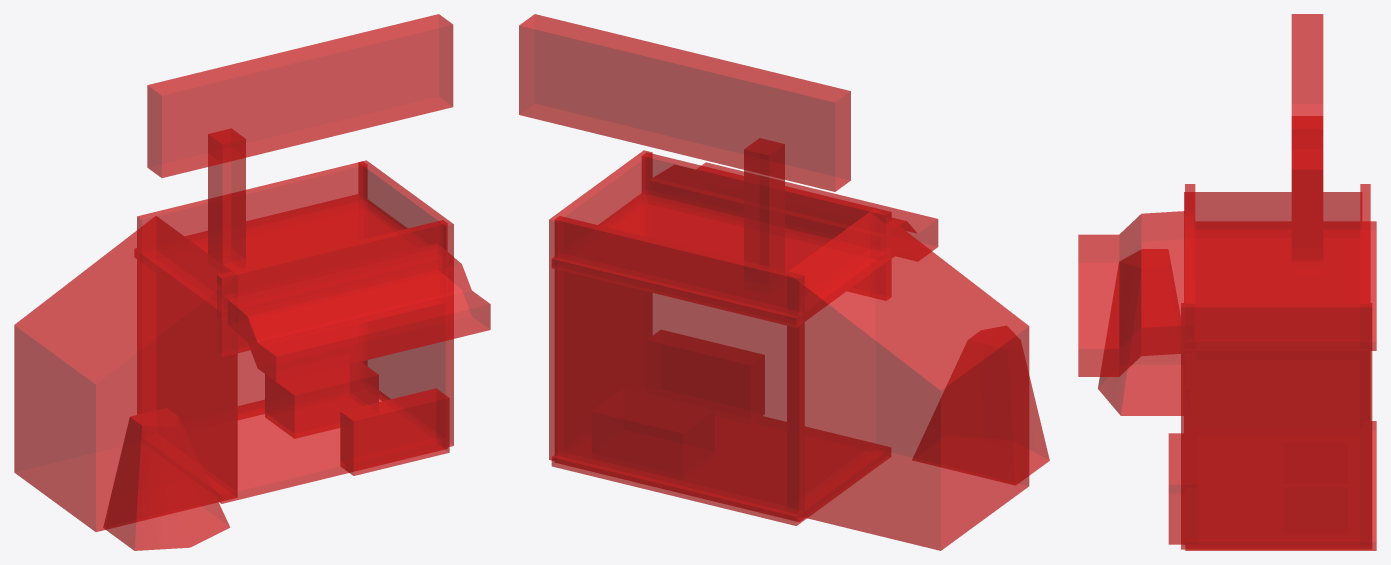
The model's file is SM_Bld_Shop_01_Collision.fbx.
3 renders of one model, left to right at view 1: azimuth 30°, elevation 25°; view 2: azimuth 150°, elevation 25°; view 3: azimuth 270°, elevation 25°, orthographic. The views are drawn at different scales.
Visible parts, largest first — view 1: SM_Bld_Shop_01_Collision; view 2: SM_Bld_Shop_01_Collision; view 3: SM_Bld_Shop_01_Collision.
Part boxes in pixels (x1,y1,x2,y2): SM_Bld_Shop_01_Collision: (14,14,490,550); SM_Bld_Shop_01_Collision: (519,14,1049,550); SM_Bld_Shop_01_Collision: (1078,14,1376,550).
Size of the model in its own units: 756 by 667 by 439.
